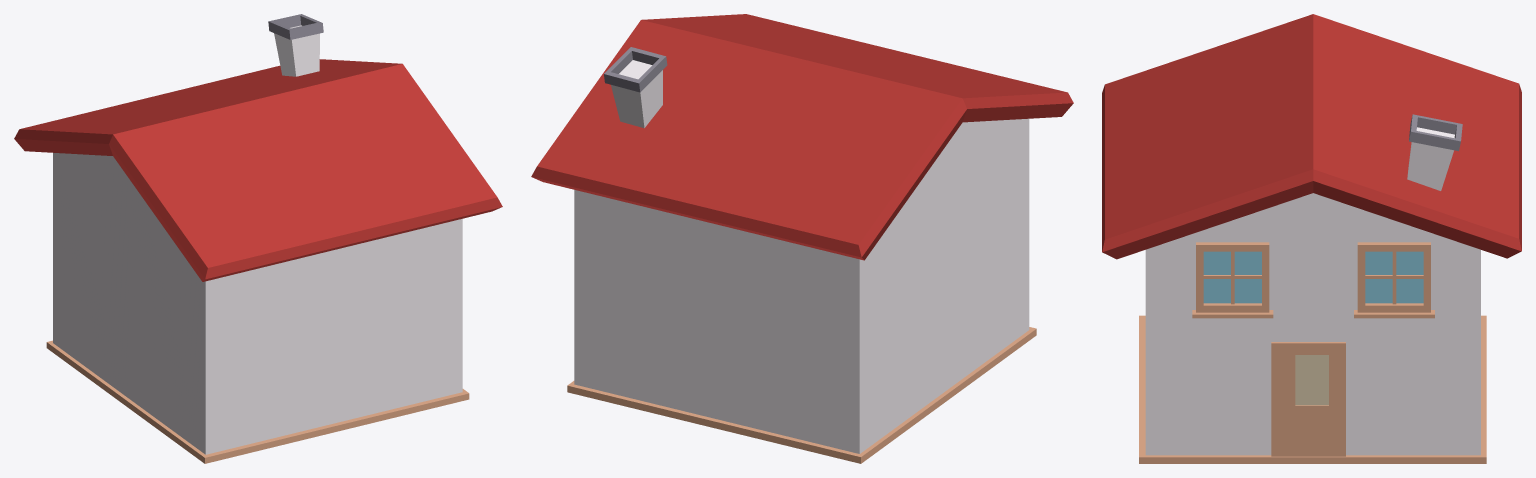
Rendered from House12.fbx.
The picture shows the model from 3 angles, left to right: view 1: azimuth 30°, elevation 25°; view 2: azimuth 150°, elevation 25°; view 3: azimuth 270°, elevation 25°; orthographic projection. The views are drawn at different scales.
Visible parts, largest first — view 1: House.020; view 2: House.020; view 3: House.020.
Part boxes in pixels (x1,y1,x2,y2): House.020: (14, 14, 502, 463); House.020: (531, 14, 1073, 463); House.020: (1102, 14, 1521, 463).
Bounding box in the file's own units: 1868 × 1747 × 2076.
